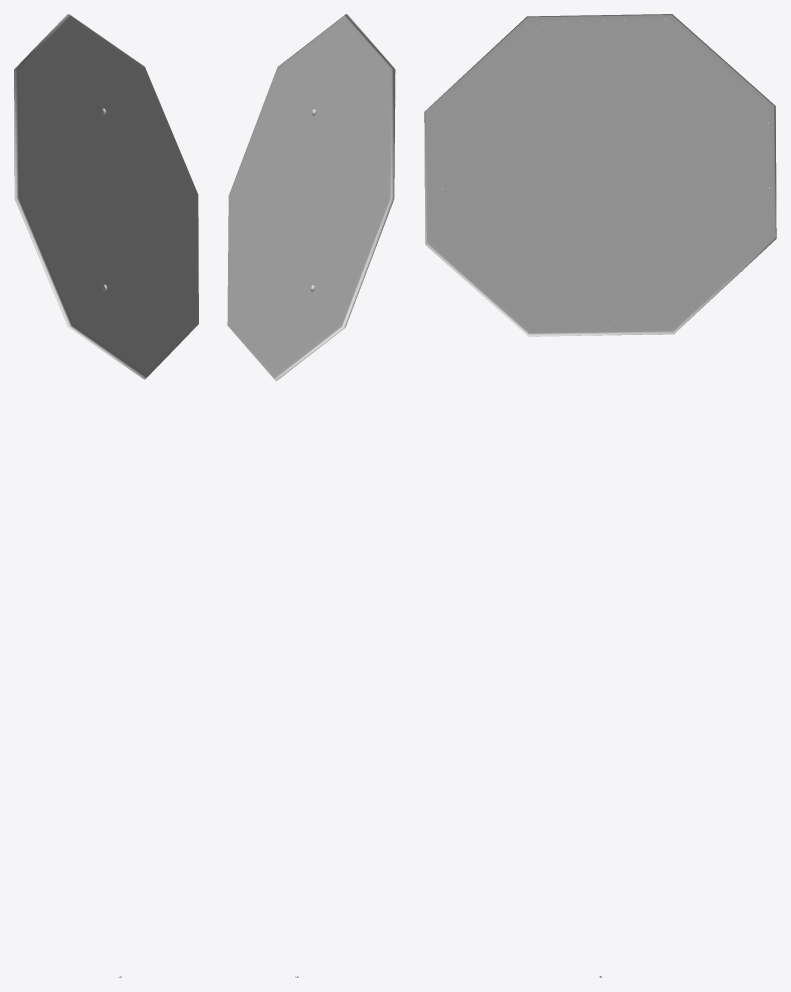
File: car_scene_3.gltf
3 views of the same model, side by side, from view 1: azimuth 30°, elevation 25°; view 2: azimuth 150°, elevation 25°; view 3: azimuth 270°, elevation 25° (orthographic).
Parts seen in each view (by area): view 1: object 4; view 2: object 4; view 3: object 4.
Part boxes in pixels (bbox=[...]): object 4: bbox=[14, 14, 198, 379]; object 4: bbox=[227, 14, 395, 380]; object 4: bbox=[424, 14, 776, 336].
Bounding box in the file's own units: 80.71 × 3199 × 1070.
Materials: 5 (2 with a texture image).
